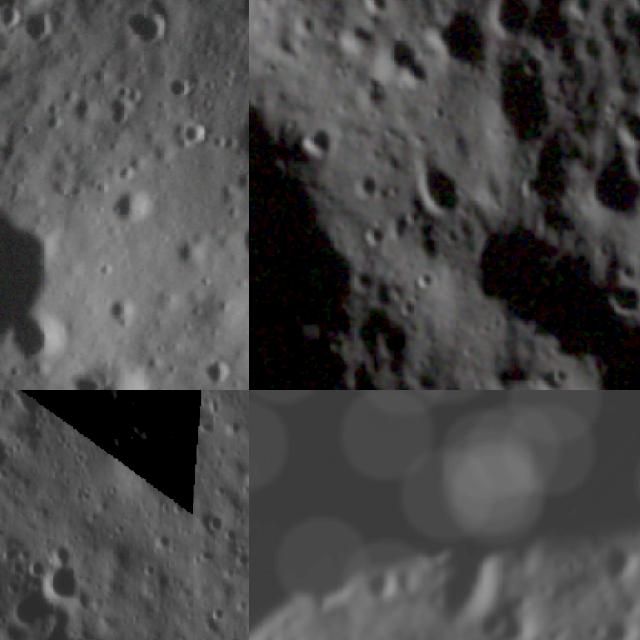crater: (0, 65, 101, 390), (477, 42, 566, 148), (0, 0, 138, 62), (469, 575, 558, 640), (416, 0, 501, 67), (578, 136, 640, 227), (516, 122, 578, 211), (43, 346, 160, 390), (408, 147, 470, 226), (368, 33, 438, 99), (355, 557, 415, 618), (585, 529, 640, 594), (34, 543, 95, 599), (216, 206, 249, 292), (476, 0, 539, 38), (0, 527, 22, 623), (295, 119, 342, 163), (610, 0, 640, 66), (600, 273, 640, 322), (344, 160, 385, 207), (590, 605, 640, 640), (610, 96, 640, 150), (354, 214, 395, 253), (408, 261, 442, 298), (358, 0, 401, 22)
